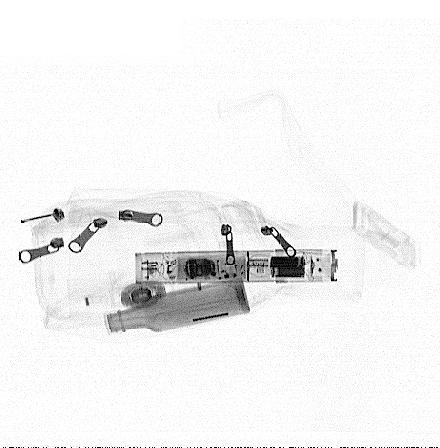Baton: (135, 248, 340, 285)
